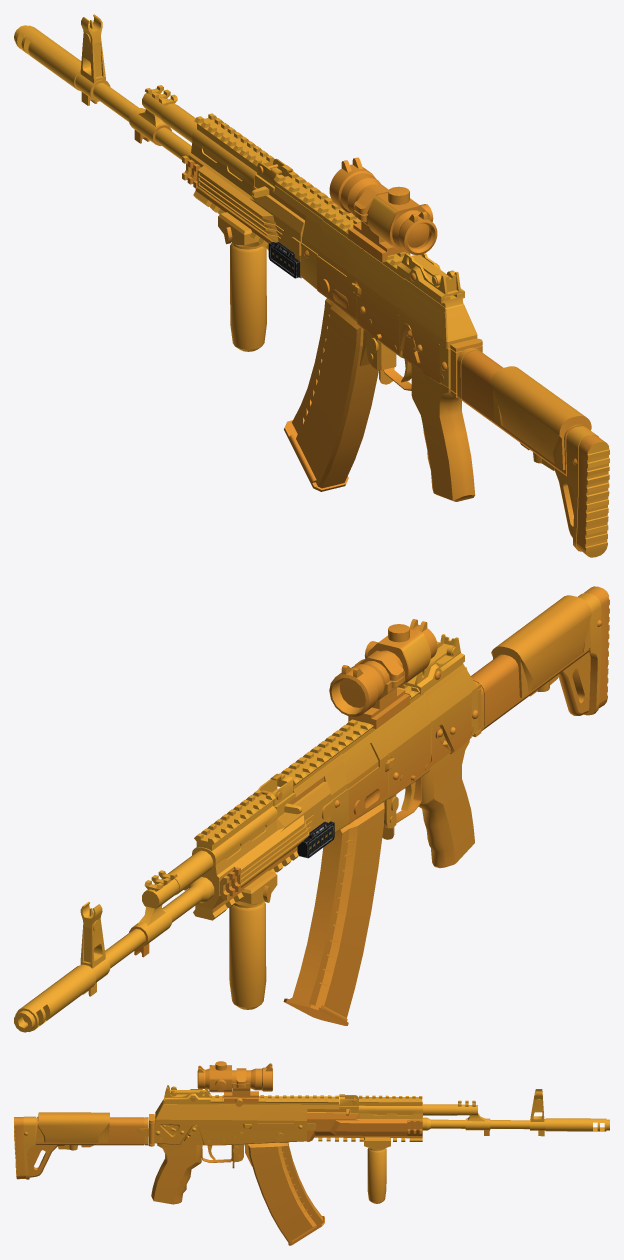
Rendered from akr12.glb.
The picture shows the model from 3 angles, top to bottom: view 1: azimuth 30°, elevation 25°; view 2: azimuth 150°, elevation 25°; view 3: azimuth 270°, elevation 25°; orthographic projection. The views are drawn at different scales.
Visible parts, largest first — view 1: LOD_Template, Magazine1, Sticker2, Sticker1, Sticker3, Sight, Sticker4, StatTrack.001; view 2: LOD_Template, Magazine1, Sticker2, Sticker1, Sticker3, Sight, Sticker4, StatTrack.001; view 3: LOD_Template, Magazine1, Sight.
Boxes of the visible parts, x1,y1,x2,y2 form: LOD_Template: (14,25,609,557); Magazine1: (284,298,378,491); Sticker2: (354,249,405,354); Sticker1: (317,218,362,318); Sticker3: (399,284,444,383); Sight: (80,14,105,83); Sticker4: (367,196,397,249); StatTrack.001: (268,242,300,278); LOD_Template: (14,586,609,1032); Magazine1: (283,801,384,1025); Sticker2: (383,693,431,799); Sticker1: (342,725,390,824); Sticker3: (427,667,471,766); Sight: (80,901,105,968); Sticker4: (400,633,430,686); StatTrack.001: (297,821,334,858); LOD_Template: (14,1061,609,1204); Magazine1: (244,1142,324,1245); Sight: (530,1089,544,1121).
Bounding box in the file's own units: 0.0523 × 0.3208 × 0.9646.
Materials: 6 (6 with a texture image).
